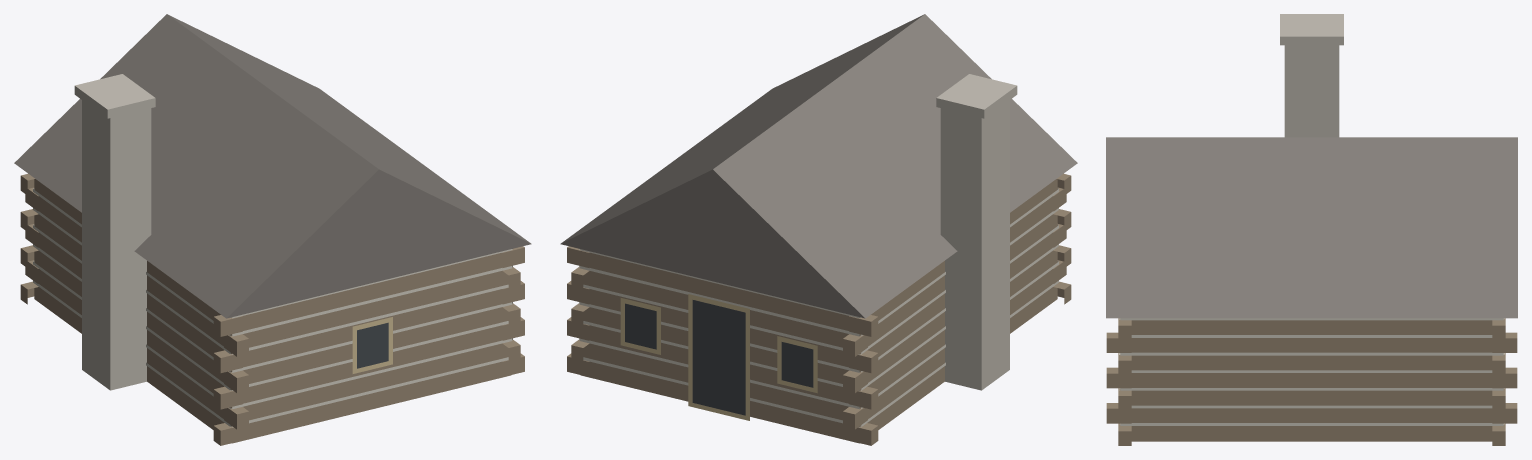
The model's file is recon_1835_north_d1_054__inferred_1835.glb.
3 renders of one model, left to right at view 1: azimuth 30°, elevation 25°; view 2: azimuth 150°, elevation 25°; view 3: azimuth 270°, elevation 25°, orthographic. The views are drawn at different scales.
Parts seen in each view (by area): view 1: recon_1835_north_d1_054__inferred_1835; view 2: recon_1835_north_d1_054__inferred_1835; view 3: recon_1835_north_d1_054__inferred_1835.
Part boxes in pixels (bbox=[...]): recon_1835_north_d1_054__inferred_1835: bbox=[14, 14, 531, 445]; recon_1835_north_d1_054__inferred_1835: bbox=[560, 14, 1077, 445]; recon_1835_north_d1_054__inferred_1835: bbox=[1106, 14, 1517, 445].
Bounding box in the file's own units: 6.56 × 5.38 × 7.21.
